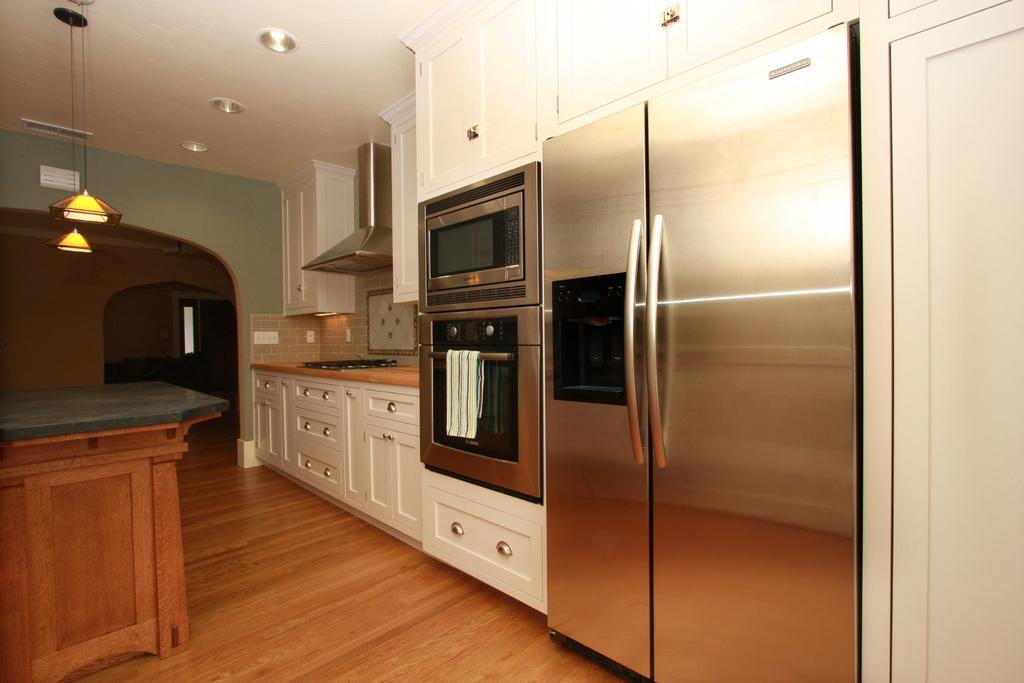cabinet_door: (558, 14, 664, 88), (430, 508, 538, 580), (482, 24, 542, 142), (428, 52, 478, 167), (673, 17, 819, 56), (396, 126, 419, 290), (358, 428, 396, 516), (390, 439, 424, 526), (280, 194, 306, 302), (258, 396, 284, 450), (366, 392, 420, 416), (321, 451, 345, 490), (248, 372, 286, 396), (294, 409, 320, 444), (316, 414, 342, 447), (294, 448, 322, 476), (288, 374, 318, 398), (318, 389, 340, 410)
handle: (644, 225, 679, 447), (621, 222, 648, 450), (425, 344, 515, 365), (491, 535, 515, 560), (444, 515, 466, 539), (318, 420, 336, 443), (297, 381, 313, 405), (319, 462, 337, 481), (300, 416, 316, 435), (302, 456, 316, 477), (383, 398, 399, 416), (258, 378, 276, 390), (318, 388, 334, 401)
